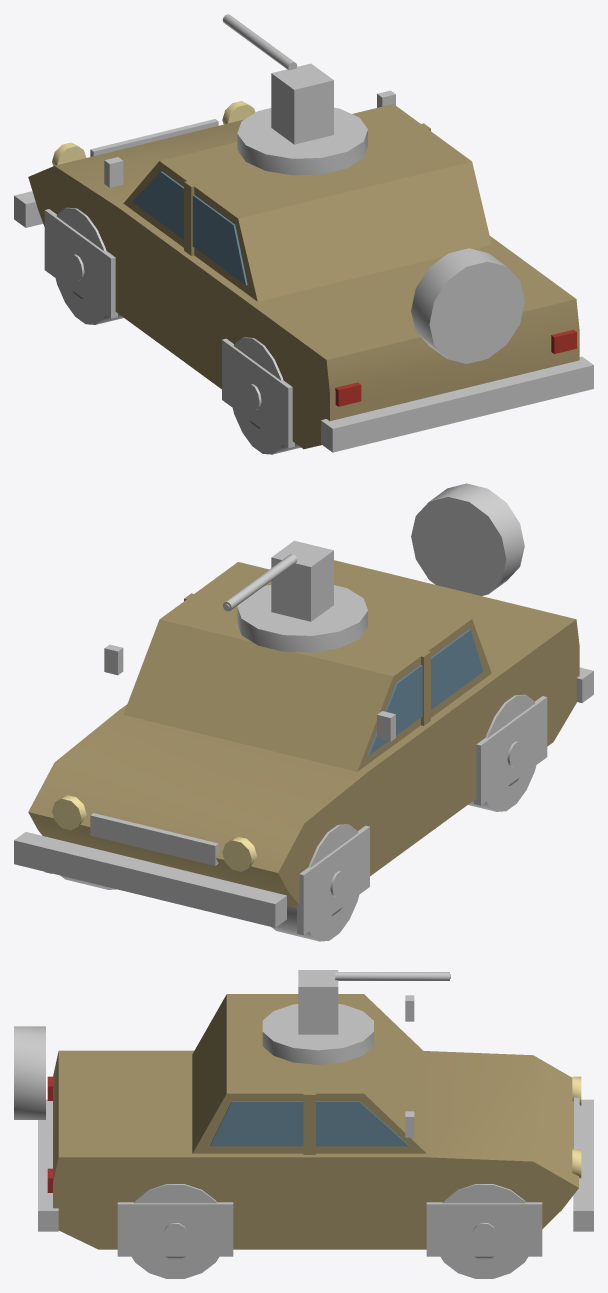
File: humvee_m249.obj
3 renders of one model, top to bottom at view 1: azimuth 30°, elevation 25°; view 2: azimuth 150°, elevation 25°; view 3: azimuth 270°, elevation 25°, orthographic. The views are drawn at different scales.
Visible parts, largest first — view 1: model; view 2: model; view 3: model.
Boxes of the visible parts, left/top/right/bottom form: model: left=14, top=14, right=593, bottom=454; model: left=14, top=483, right=593, bottom=941; model: left=14, top=970, right=593, bottom=1278.
Size of the model in its own units: 2.52 by 2.44 by 5.07.
